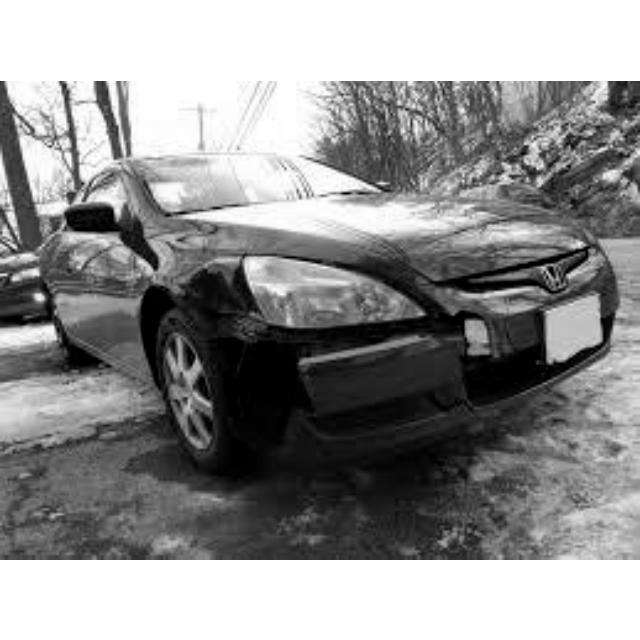Headlight-damage: (189, 256, 430, 325)
front-bumper-dent: (224, 324, 502, 447)
